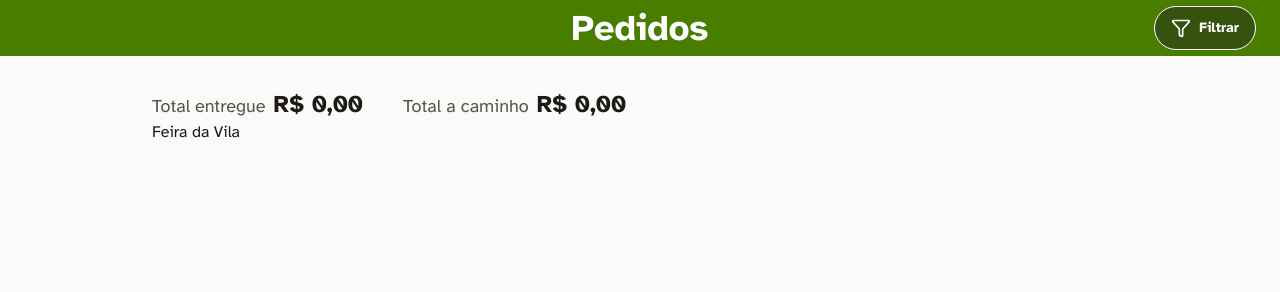
Test: HistoryLayout › keeps the filters closed until the button is used
Expected: the list items read "Feira da Vila", in this order, left=152, top=122, right=240, bottom=142
Expected: the field labelled "Status" is not shown
What coordinates should you click on to do the following:
click the button "Filtrar"
I would click on:
 (1205, 28)
Its box is left=1154, top=6, right=1256, bottom=50.
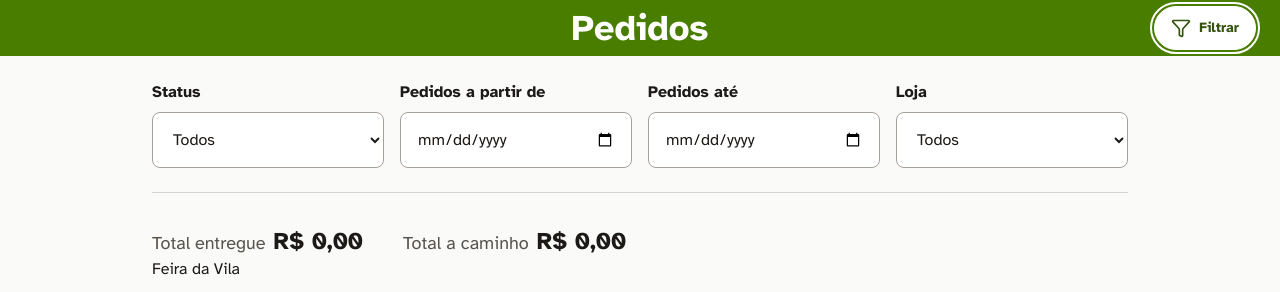
Expected: the dropdown labelled "Status" is shown, left=152, top=112, right=384, bottom=168
